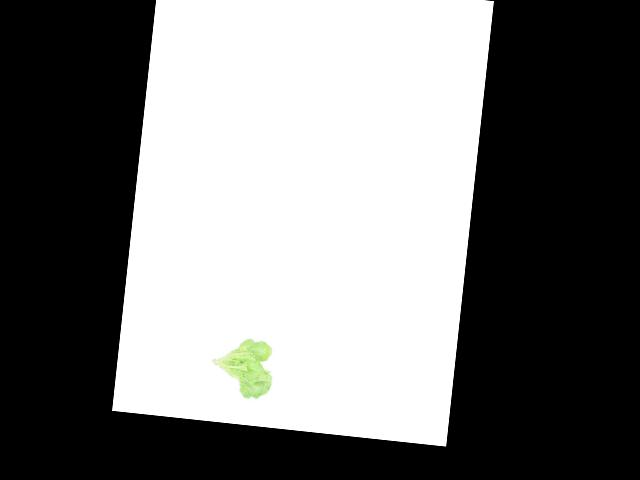lettuce: (207, 332, 280, 404)
